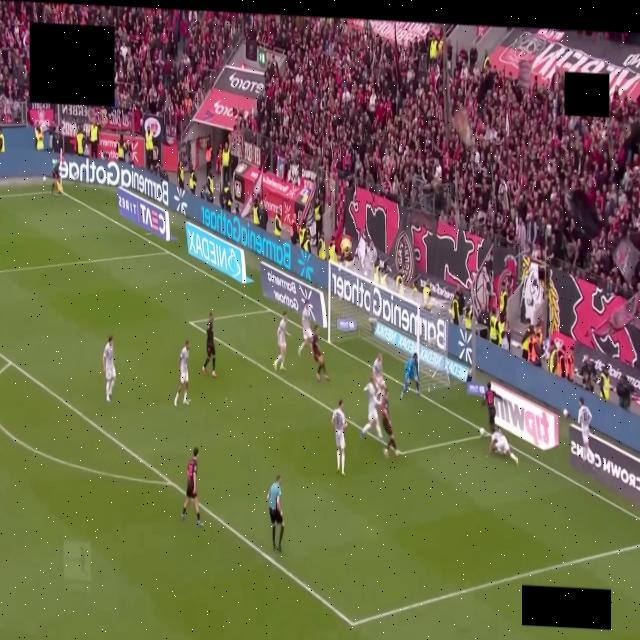ball: (479, 428, 485, 435)
player: (181, 447, 202, 526), (380, 388, 399, 457), (360, 377, 381, 439), (331, 401, 346, 475), (174, 340, 189, 406), (489, 431, 517, 466), (482, 382, 500, 434), (311, 326, 328, 381), (202, 313, 216, 378), (273, 312, 288, 370), (102, 337, 115, 403), (400, 352, 419, 397), (577, 398, 591, 456), (298, 301, 311, 355), (372, 355, 385, 393)
referee: (266, 475, 283, 552)
